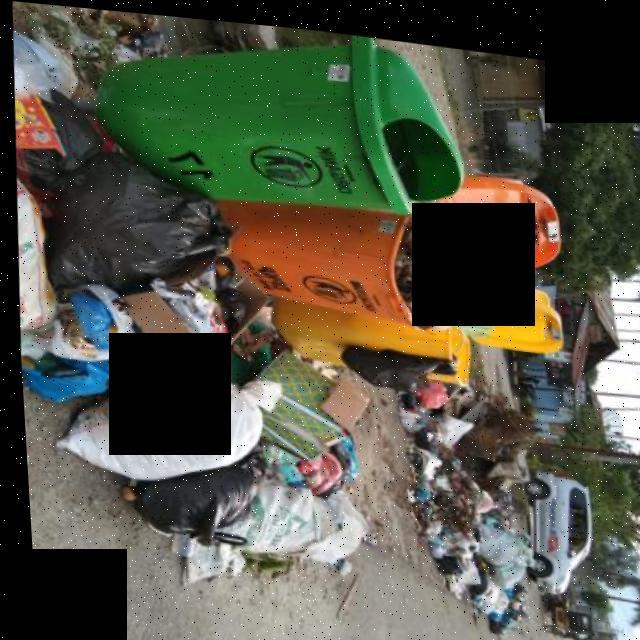bin: (81, 6, 478, 231), (208, 195, 448, 323), (256, 286, 475, 384)
